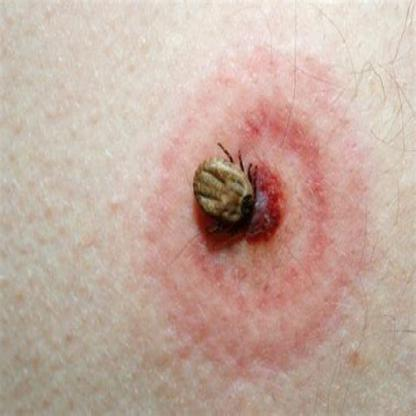Tick: (138, 33, 372, 380)
